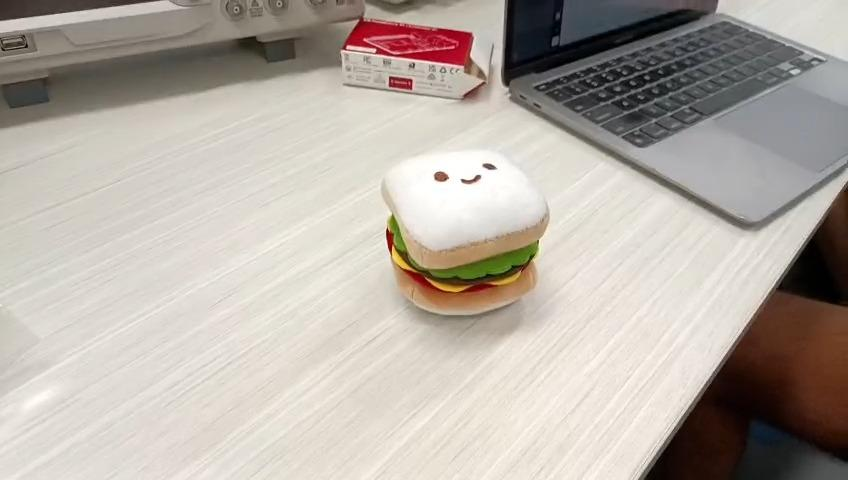objects: (380, 144, 550, 318)
